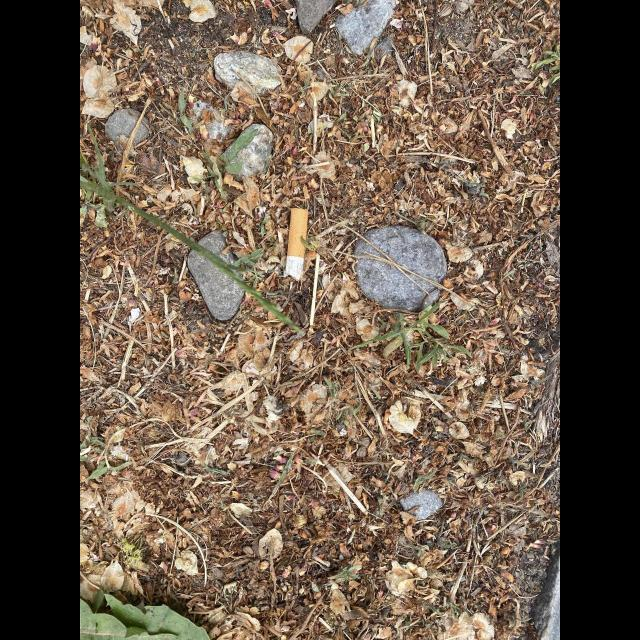cigarette: (285, 208, 308, 281)
